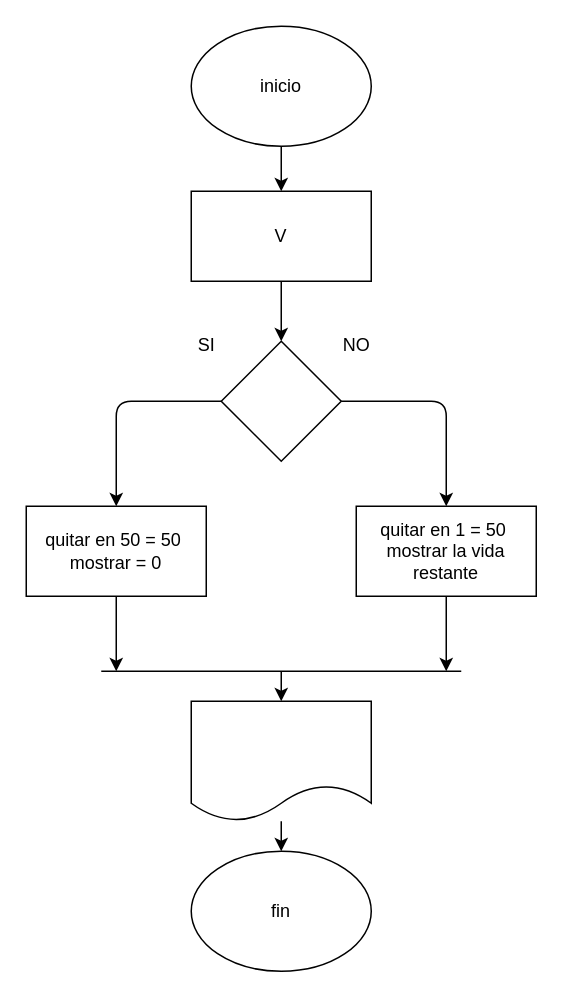
The diagram is 563 pixels wide and 998 high, and some of its shapes have lost their labels. Here are the shapes that lost their labels. From the top down, the centre of each, then its label:
At point 280,400: "V == 50".
At point 280,760: "rta =".
